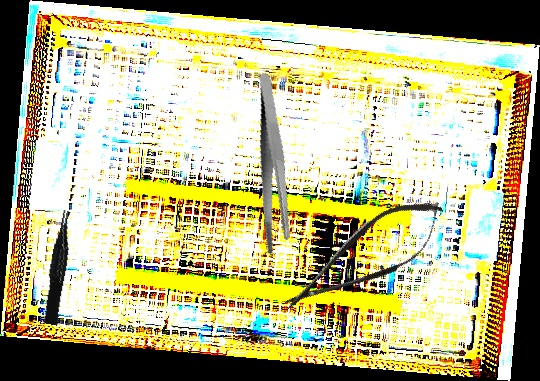Dressing Forceps: (226, 72, 320, 258)
Micro Scissor: (271, 183, 458, 332)
Tissue Forceps: (39, 209, 79, 326)
